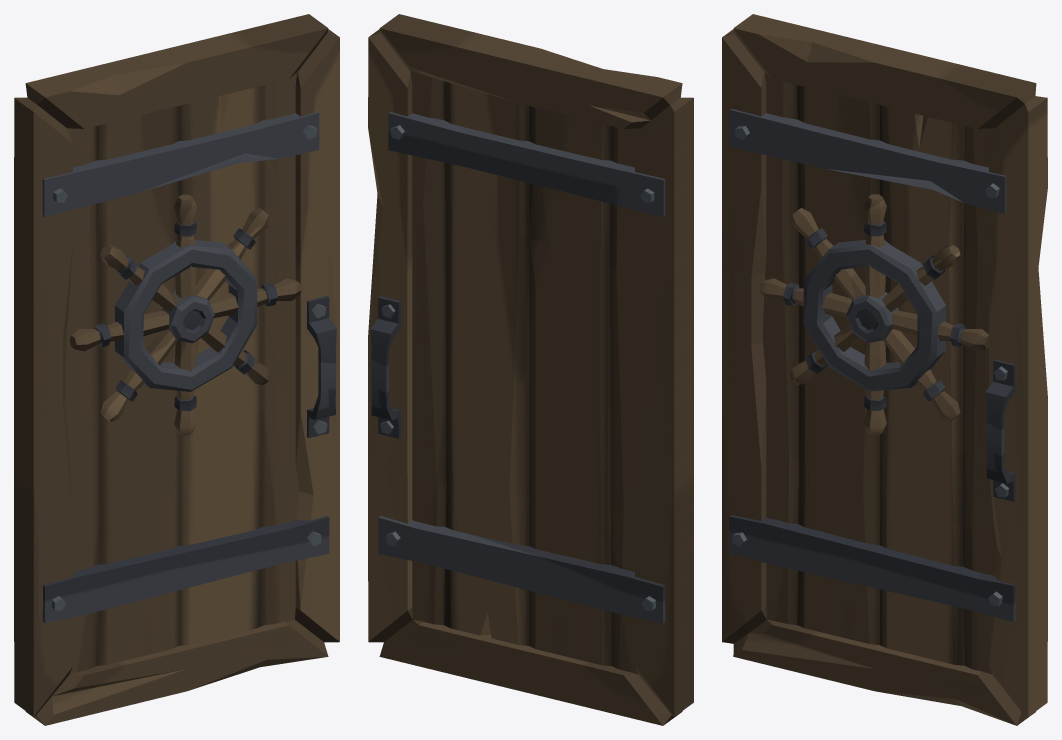
File: SM_Bld_Door_03.fbx
The picture shows the model from 3 angles, left to right: view 1: azimuth 30°, elevation 25°; view 2: azimuth 150°, elevation 25°; view 3: azimuth 330°, elevation 25°; orthographic projection.
Parts seen in each view (by area): view 1: SM_Bld_Door_03; view 2: SM_Bld_Door_03; view 3: SM_Bld_Door_03.
Part boxes in pixels (x1,y1,x2,y2): SM_Bld_Door_03: (14,14,339,725); SM_Bld_Door_03: (368,14,693,725); SM_Bld_Door_03: (722,14,1047,725).
Size of the model in its own units: 100 by 197 by 24.46.
